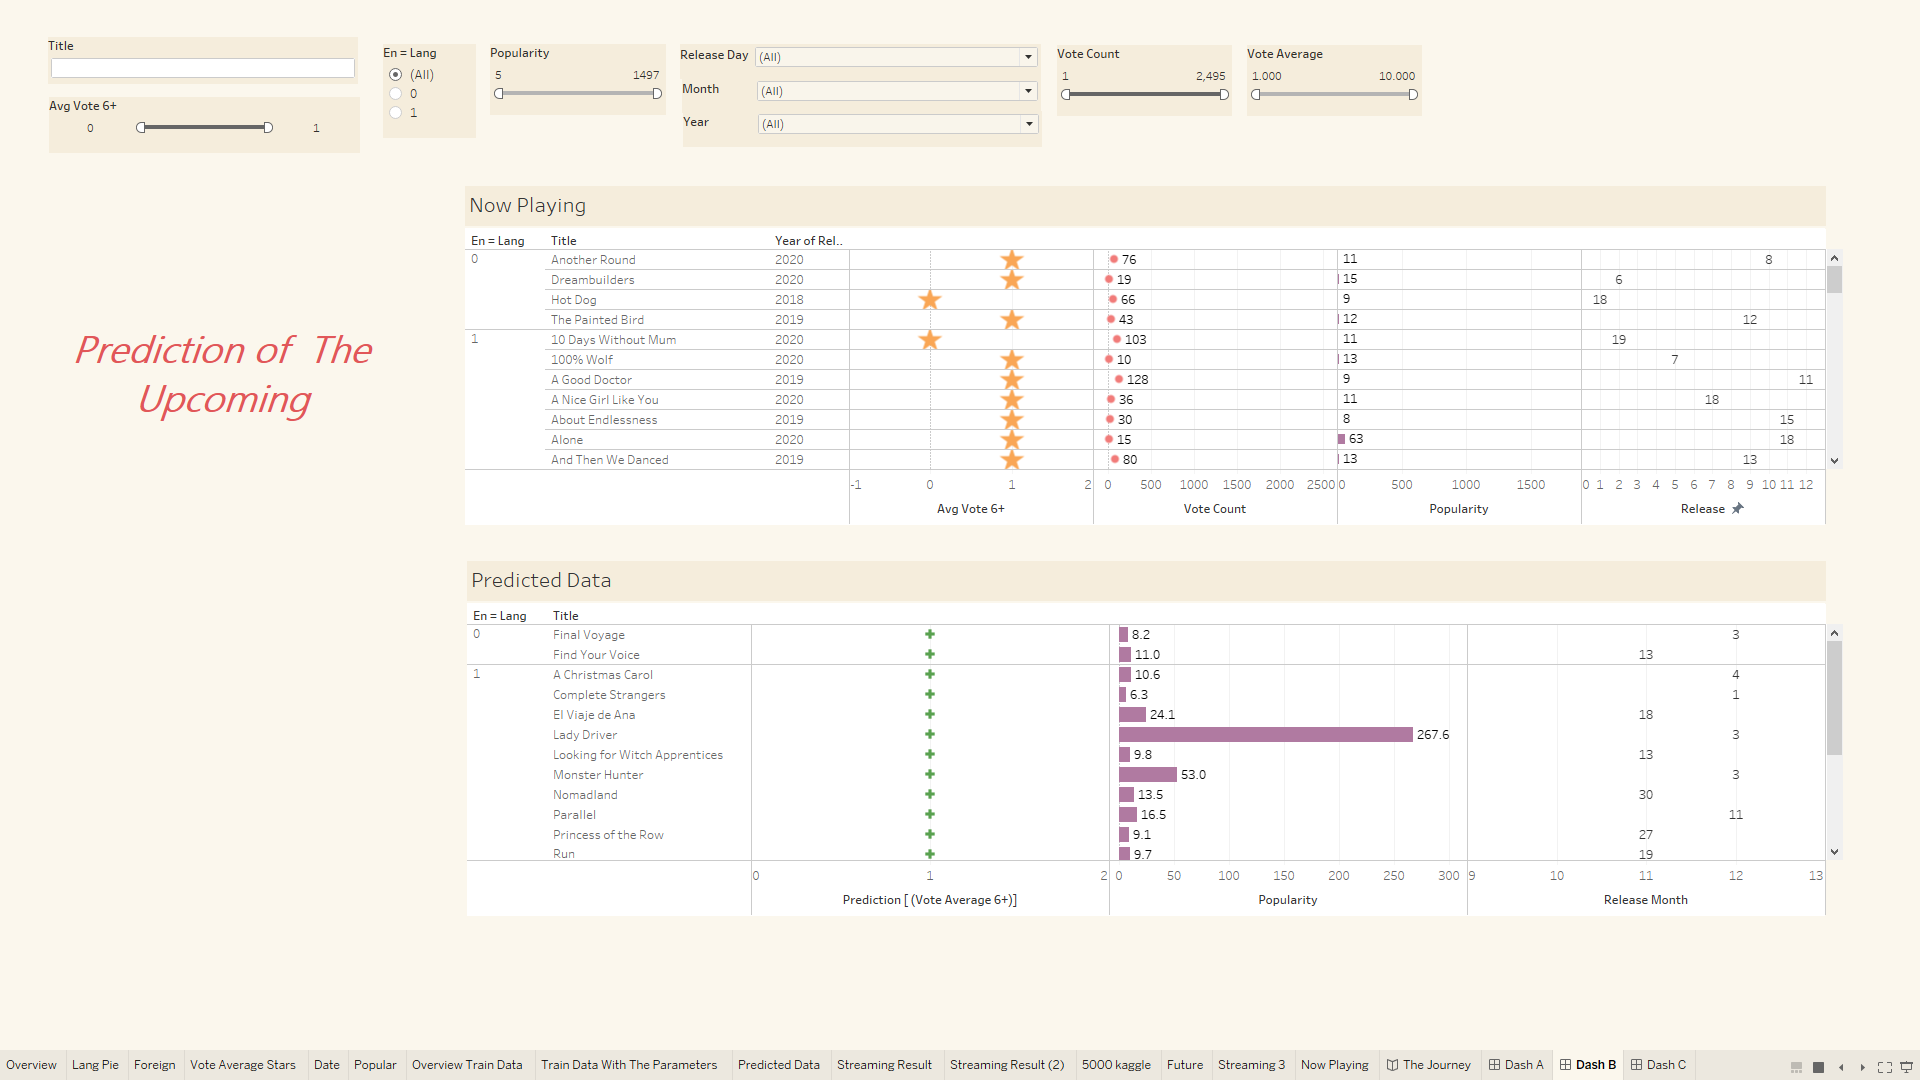

What the dashboard file says about the page in this screenshot:
{"tool":"tableau","page":{"name":"Dash B","canvas":[1000,1000],"units":"permille","ordinal":1},"visuals":[{"type":"worksheet","title":"Train Data With The Parameters","mark":"Shape","rows":["en = lang","title","release_date"],"cols":["avg_vote_6+","vote_count","popularity","release_month"],"param":"[federated.061fnxu0zscyg317osllc0d2nsyg].[none:title:nk]","box":[23.5,32.1,164.8,50.9]},{"type":"worksheet","title":"Train Data With The Parameters","mark":"Shape","rows":["en = lang","title","release_date"],"cols":["avg_vote_6+","vote_count","popularity","release_month"],"param":"[federated.061fnxu0zscyg317osllc0d2nsyg].[none:en = lang:ok]","box":[199.7,42,48.6,89.6]},{"type":"worksheet","title":"Train Data With The Parameters","mark":"Shape","rows":["en = lang","title","release_date"],"cols":["avg_vote_6+","vote_count","popularity","release_month"],"param":"[federated.061fnxu0zscyg317osllc0d2nsyg].[none:popularity:qk]","box":[255.2,42,91.5,67.5]},{"type":"worksheet","title":"Train Data With The Parameters","mark":"Shape","rows":["en = lang","title","release_date"],"cols":["avg_vote_6+","vote_count","popularity","release_month"],"param":"[federated.061fnxu0zscyg317osllc0d2nsyg].[none:release_day:ok]","box":[354.1,42,188.2,33.2]},{"type":"worksheet","title":"Train Data With The Parameters","mark":"Shape","rows":["en = lang","title","release_date"],"cols":["avg_vote_6+","vote_count","popularity","release_month"],"param":"[federated.061fnxu0zscyg317osllc0d2nsyg].[attr:vote_count:qk]","box":[550.3,43.1,91.5,67.5]},{"type":"worksheet","title":"Train Data With The Parameters","mark":"Shape","rows":["en = lang","title","release_date"],"cols":["avg_vote_6+","vote_count","popularity","release_month"],"param":"[federated.061fnxu0zscyg317osllc0d2nsyg].[attr:vote_average:qk]","box":[649.5,43.1,91.3,67.5]},{"type":"worksheet","title":"Train Data With The Parameters","mark":"Shape","rows":["en = lang","title","release_date"],"cols":["avg_vote_6+","vote_count","popularity","release_month"],"param":"[federated.061fnxu0zscyg317osllc0d2nsyg].[none:release_month:ok]","box":[355.3,74.1,187.1,33.2]},{"type":"worksheet","title":"Train Data With The Parameters","mark":"Shape","rows":["en = lang","title","release_date"],"cols":["avg_vote_6+","vote_count","popularity","release_month"],"param":"[federated.061fnxu0zscyg317osllc0d2nsyg].[none:avg_vote_6+:qk]","box":[24,89.6,165.3,58.6]},{"type":"worksheet","title":"Train Data With The Parameters","mark":"Shape","rows":["en = lang","title","release_date"],"cols":["avg_vote_6+","vote_count","popularity","release_month"],"param":"[federated.061fnxu0zscyg317osllc0d2nsyg].[yr:release_date:ok]","box":[355.8,106.2,187.1,34.3]},{"type":"worksheet","title":"Train Data With The Parameters","mark":"Shape","rows":["en = lang","title","release_date"],"cols":["avg_vote_6+","vote_count","popularity","release_month"],"box":[242.2,177,718,323]},{"type":"worksheet","title":"Predicted Data","mark":"Shape","rows":["en = lang","title"],"cols":["Output","popularity","release_month"],"box":[243.4,534.3,717.4,338.5]}]}

Visuals, with their boxes on the dashboard's canvas, which has no fixed pixel size, in thousandths of its width and height (x1, y1, x2, y2). These are canvas units, not pixel positions in the 1920x1080 screenshot, which may show the page scaled, cropped or inside an application window:
"Train Data With The Parameters" worksheet (Shape marks): select_region(24, 32, 188, 83)
"Train Data With The Parameters" worksheet (Shape marks): select_region(200, 42, 248, 132)
"Train Data With The Parameters" worksheet (Shape marks): select_region(255, 42, 347, 110)
"Train Data With The Parameters" worksheet (Shape marks): select_region(354, 42, 542, 75)
"Train Data With The Parameters" worksheet (Shape marks): select_region(550, 43, 642, 111)
"Train Data With The Parameters" worksheet (Shape marks): select_region(650, 43, 741, 111)
"Train Data With The Parameters" worksheet (Shape marks): select_region(355, 74, 542, 107)
"Train Data With The Parameters" worksheet (Shape marks): select_region(24, 90, 189, 148)
"Train Data With The Parameters" worksheet (Shape marks): select_region(356, 106, 543, 140)
"Train Data With The Parameters" worksheet (Shape marks): select_region(242, 177, 960, 500)
"Predicted Data" worksheet (Shape marks): select_region(243, 534, 961, 873)
